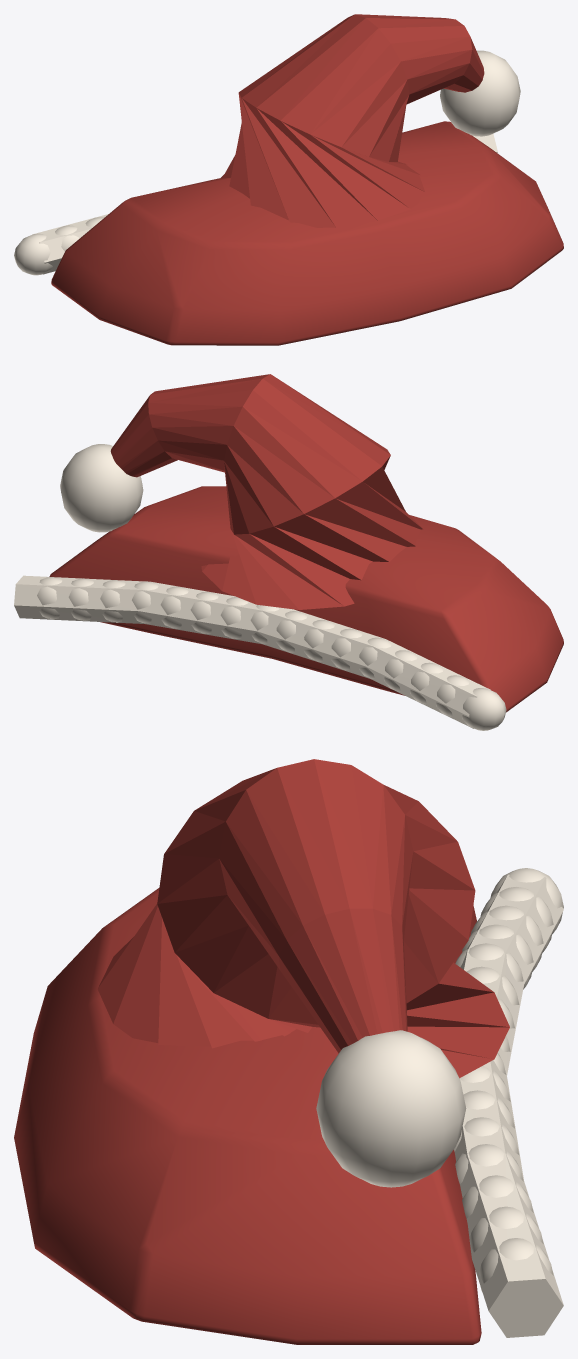
File: santa.fbx
3 views of the same model, one above another, from view 1: azimuth 30°, elevation 25°; view 2: azimuth 150°, elevation 25°; view 3: azimuth 270°, elevation 25° (orthographic). The views are drawn at different scales.
Parts seen in each view (by area): view 1: santa_armor; view 2: santa_armor; view 3: santa_armor.
Part boxes in pixels (<box>): santa_armor: <box>14,14,563,345</box>; santa_armor: <box>14,374,563,730</box>; santa_armor: <box>14,759,563,1344</box>.
Bounding box in the file's own units: 4.01 × 1.9 × 2.2.
Materials: 1 (1 with a texture image).
